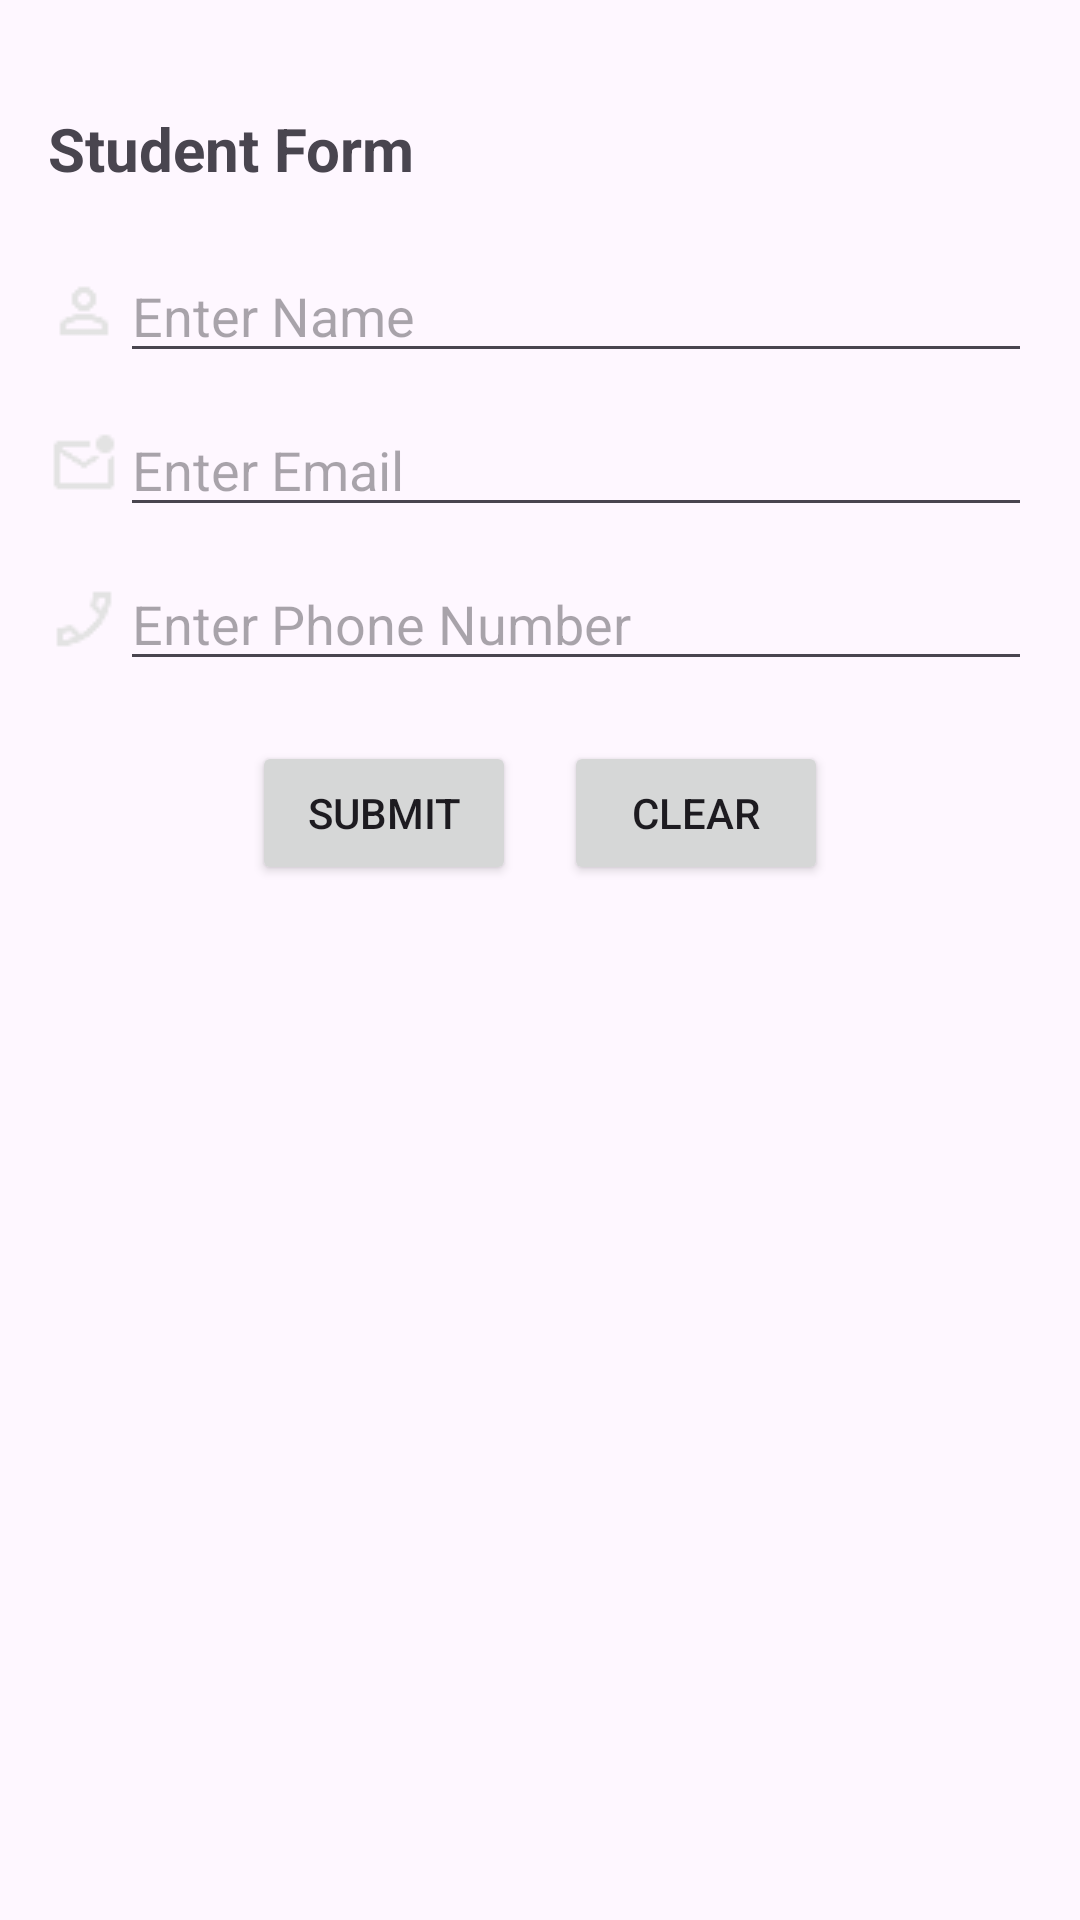

Icon bounding boxes for this 1080w x 1920h phone screenshot, format box(x1, y1, x2, y2):
person: box(61, 288, 107, 334)
